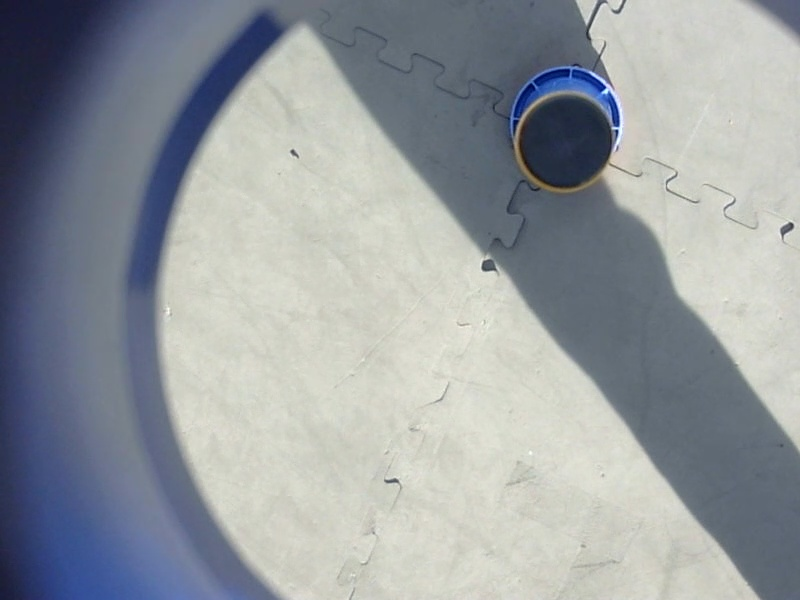tip: (507, 87, 621, 196)
